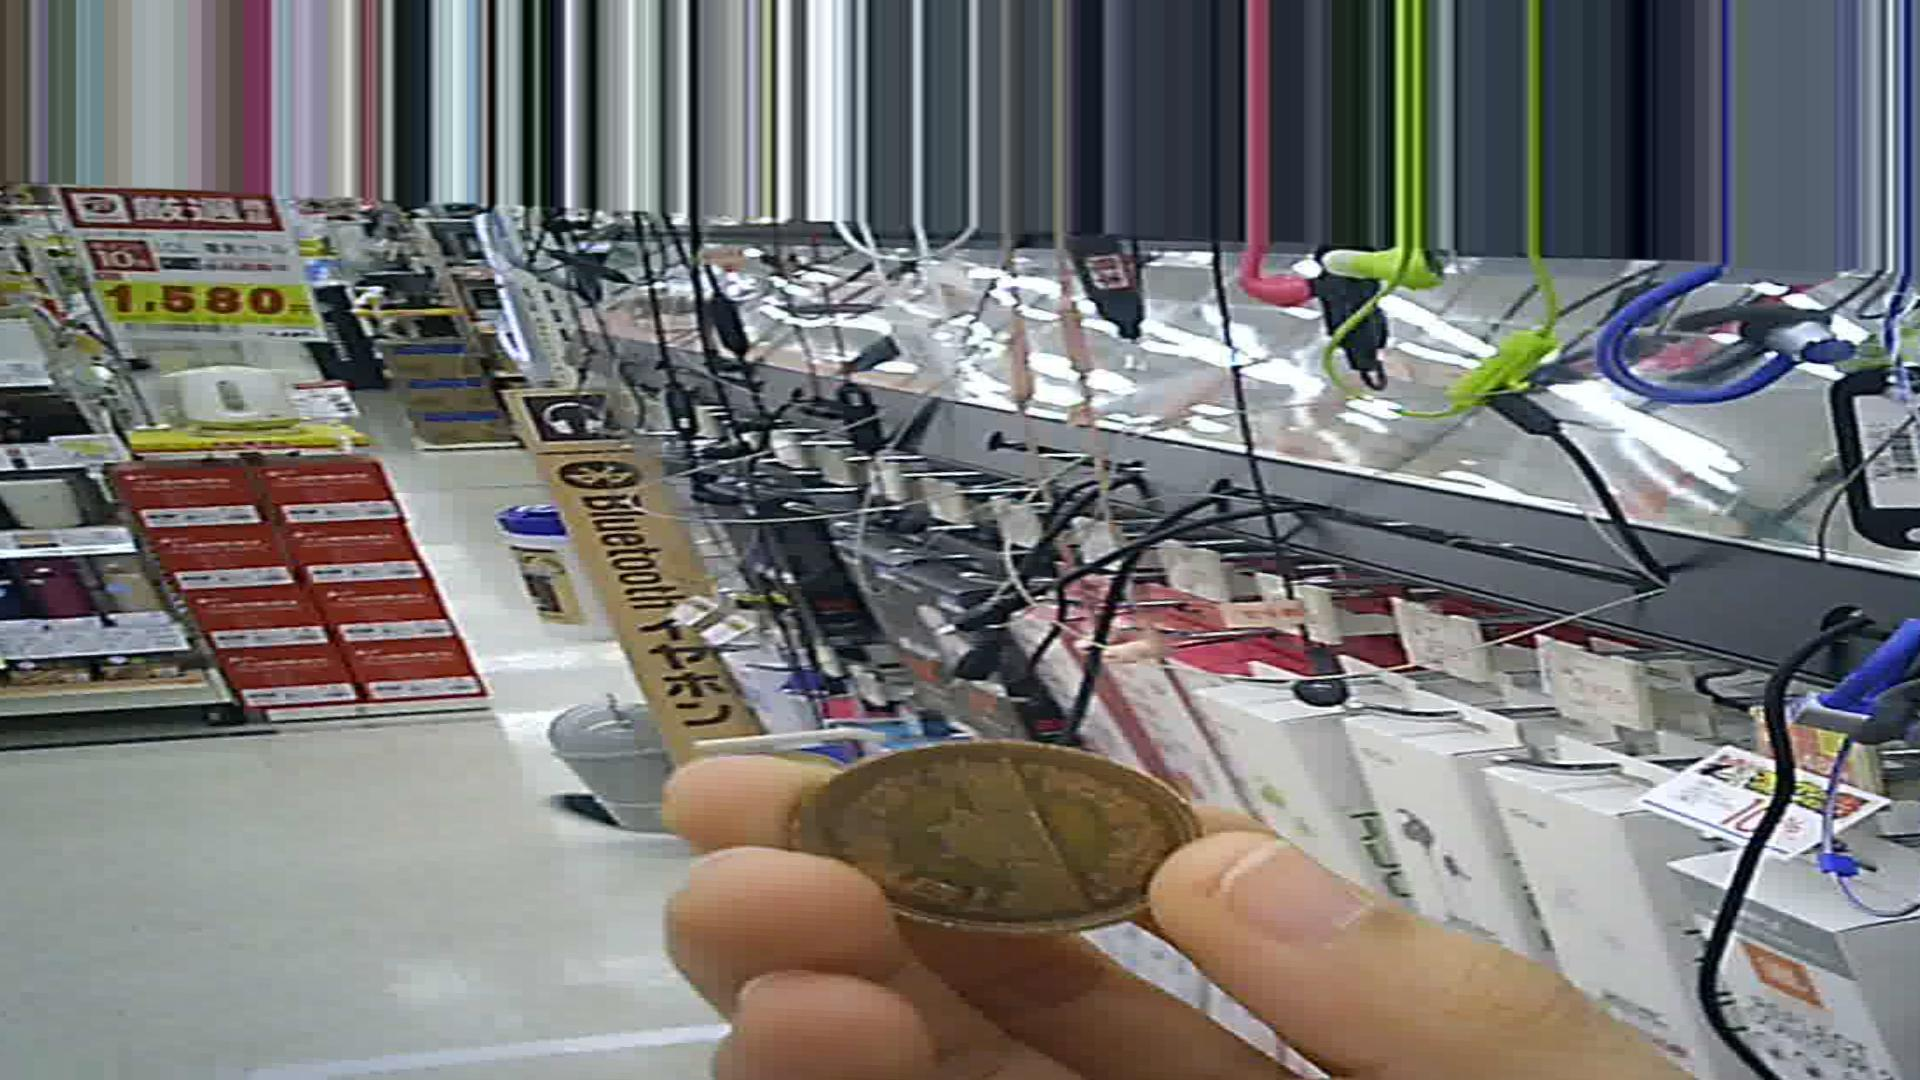10 Yen: (795, 746, 1207, 959)
